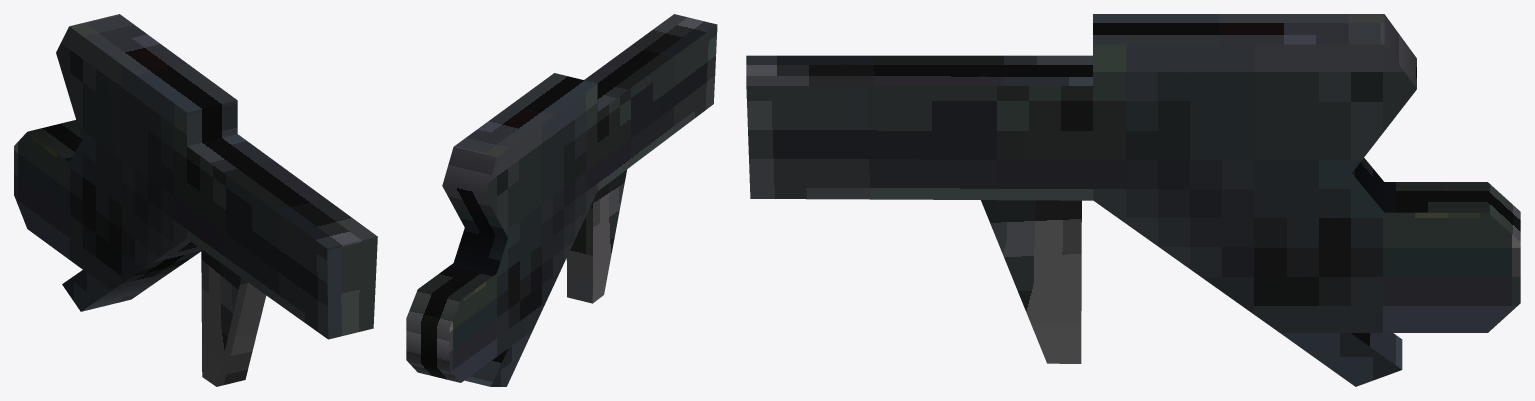
File: eqp_comp_weapon_trigger_s02_l2.fbx
3 views of the same model, side by side, from view 1: azimuth 30°, elevation 25°; view 2: azimuth 150°, elevation 25°; view 3: azimuth 270°, elevation 25° (orthographic). The views are drawn at different scales.
Visible parts, largest first — view 1: mesh_node; view 2: mesh_node; view 3: mesh_node.
Boxes of the visible parts, x1,y1,x2,y2 form: mesh_node: [14, 14, 377, 386]; mesh_node: [406, 14, 717, 386]; mesh_node: [746, 14, 1520, 386].
Size of the model in its own units: 0.00523 by 0.0274 by 0.0561.
Materials: 1 (1 with a texture image).
